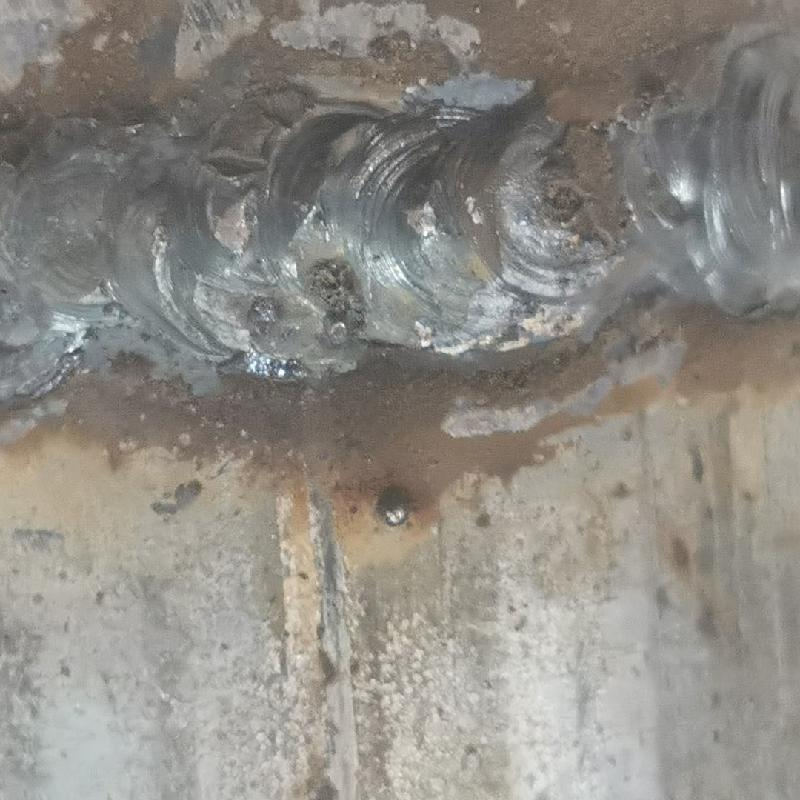good: (3, 35, 799, 385)
